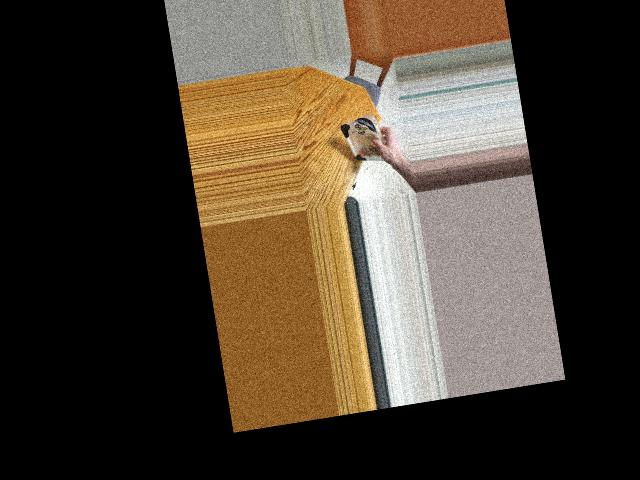cheese: (343, 111, 386, 168)
